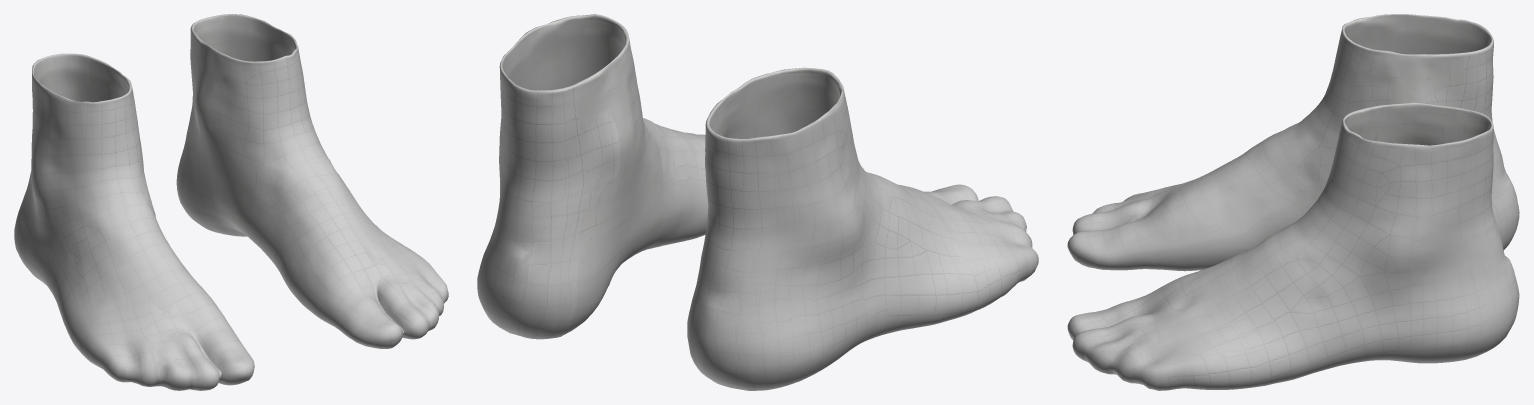
File: feet-3d-model.glb
3 views of the same model, side by side, from view 1: azimuth 30°, elevation 25°; view 2: azimuth 150°, elevation 25°; view 3: azimuth 270°, elevation 25° (orthographic). The views are drawn at different scales.
Visible parts, largest first — view 1: tripo_node_a756691b-734f-4006-ba99-0e24754b2829; view 2: tripo_node_a756691b-734f-4006-ba99-0e24754b2829; view 3: tripo_node_a756691b-734f-4006-ba99-0e24754b2829.
Part boxes in pixels (x1=…): tripo_node_a756691b-734f-4006-ba99-0e24754b2829: x1=14, y1=14, x2=448, y2=390; tripo_node_a756691b-734f-4006-ba99-0e24754b2829: x1=477, y1=14, x2=1038, y2=390; tripo_node_a756691b-734f-4006-ba99-0e24754b2829: x1=1067, y1=14, x2=1519, y2=390.
Size of the model in its own units: 0.9735 by 0.5621 by 0.9967.
Materials: 1 (1 with a texture image).
